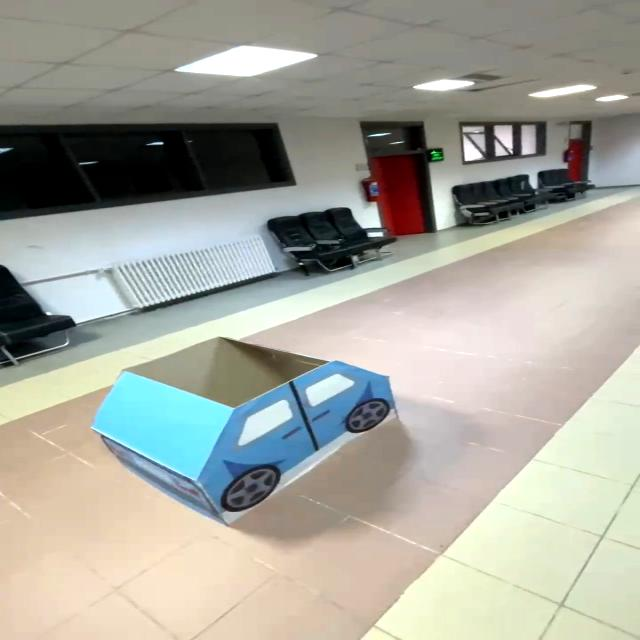blue_car: (76, 325, 431, 544)
